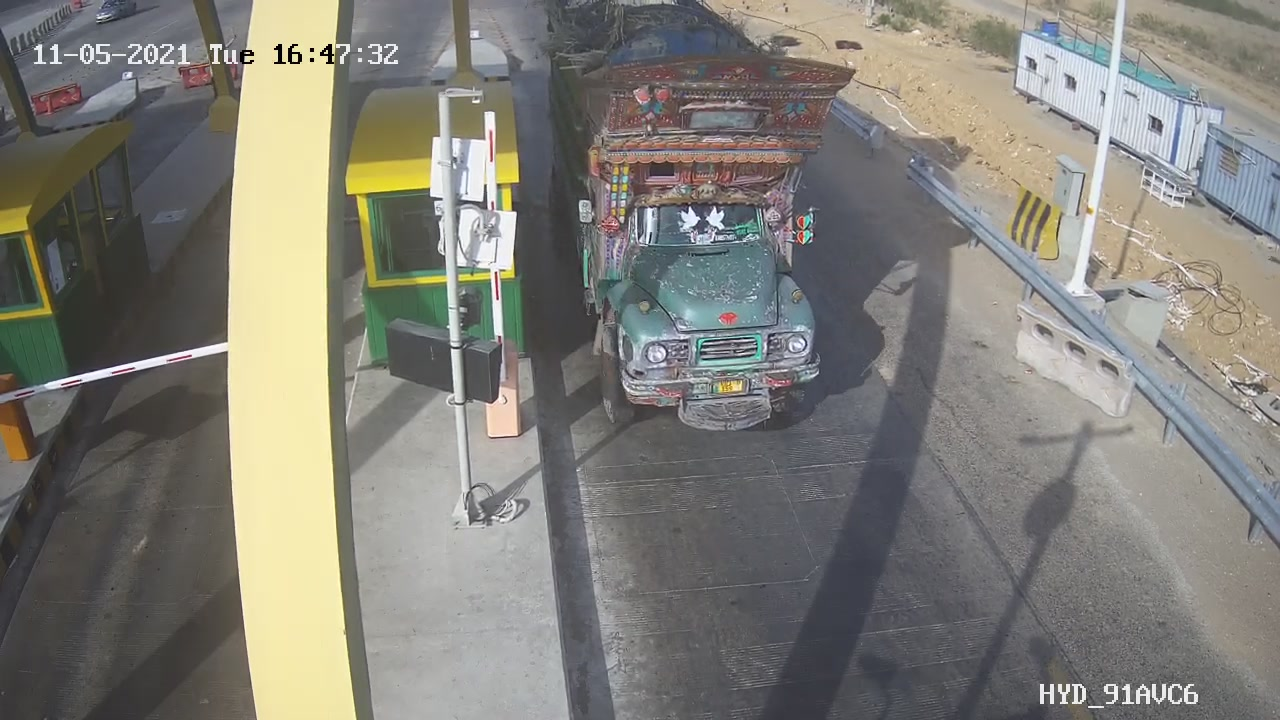F5: (522, 1, 878, 455)
